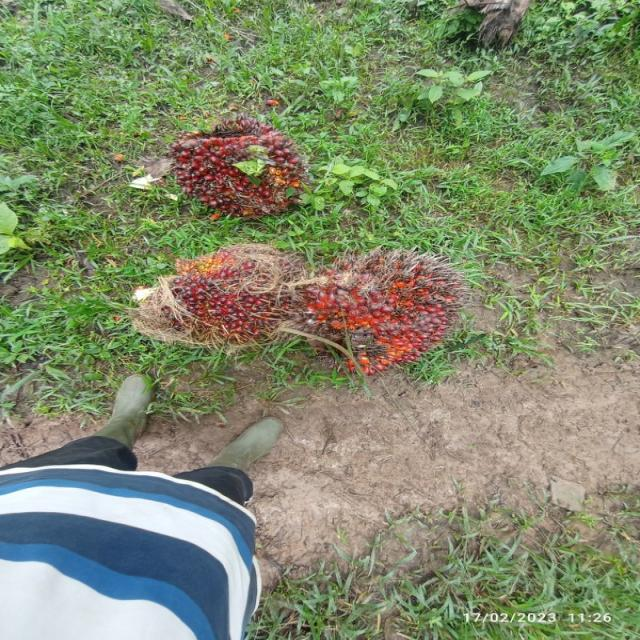fraksi 3: (100, 232, 316, 368), (160, 108, 326, 218)
fraksi 4: (299, 234, 482, 384)
